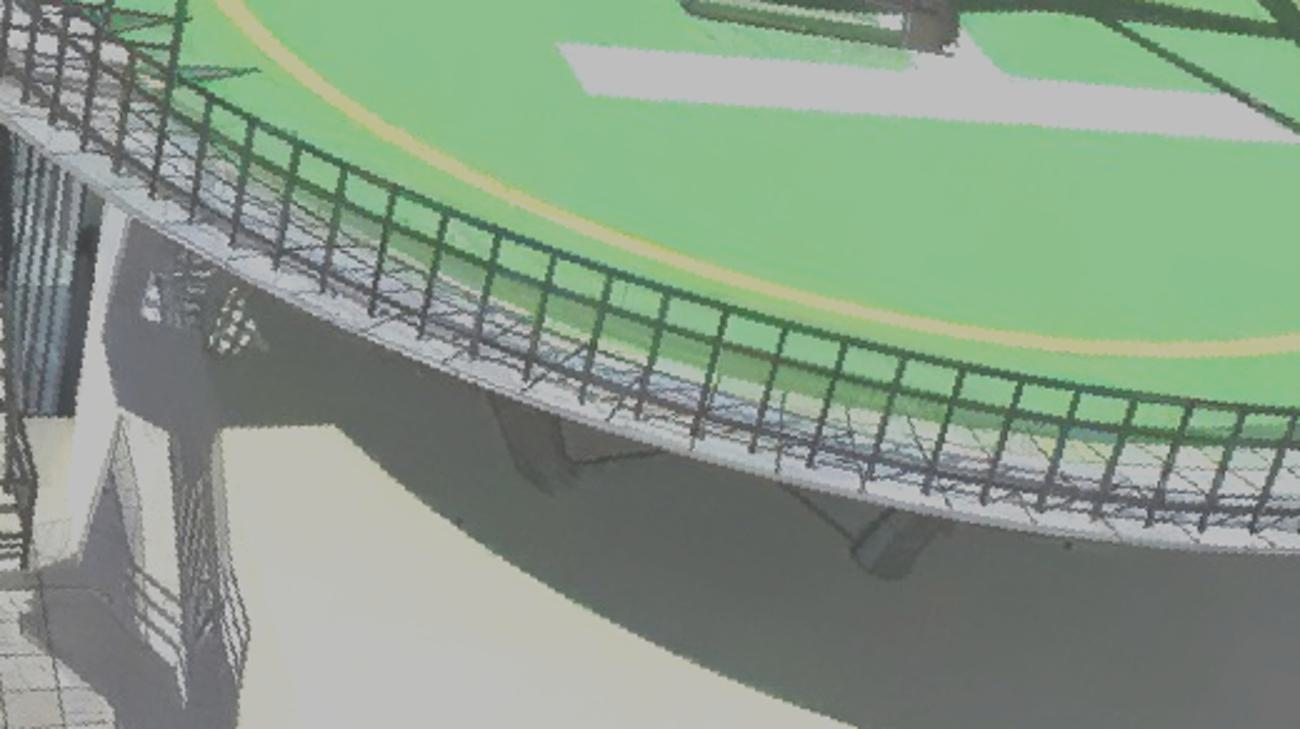Apron: (206, 2, 1300, 365)
